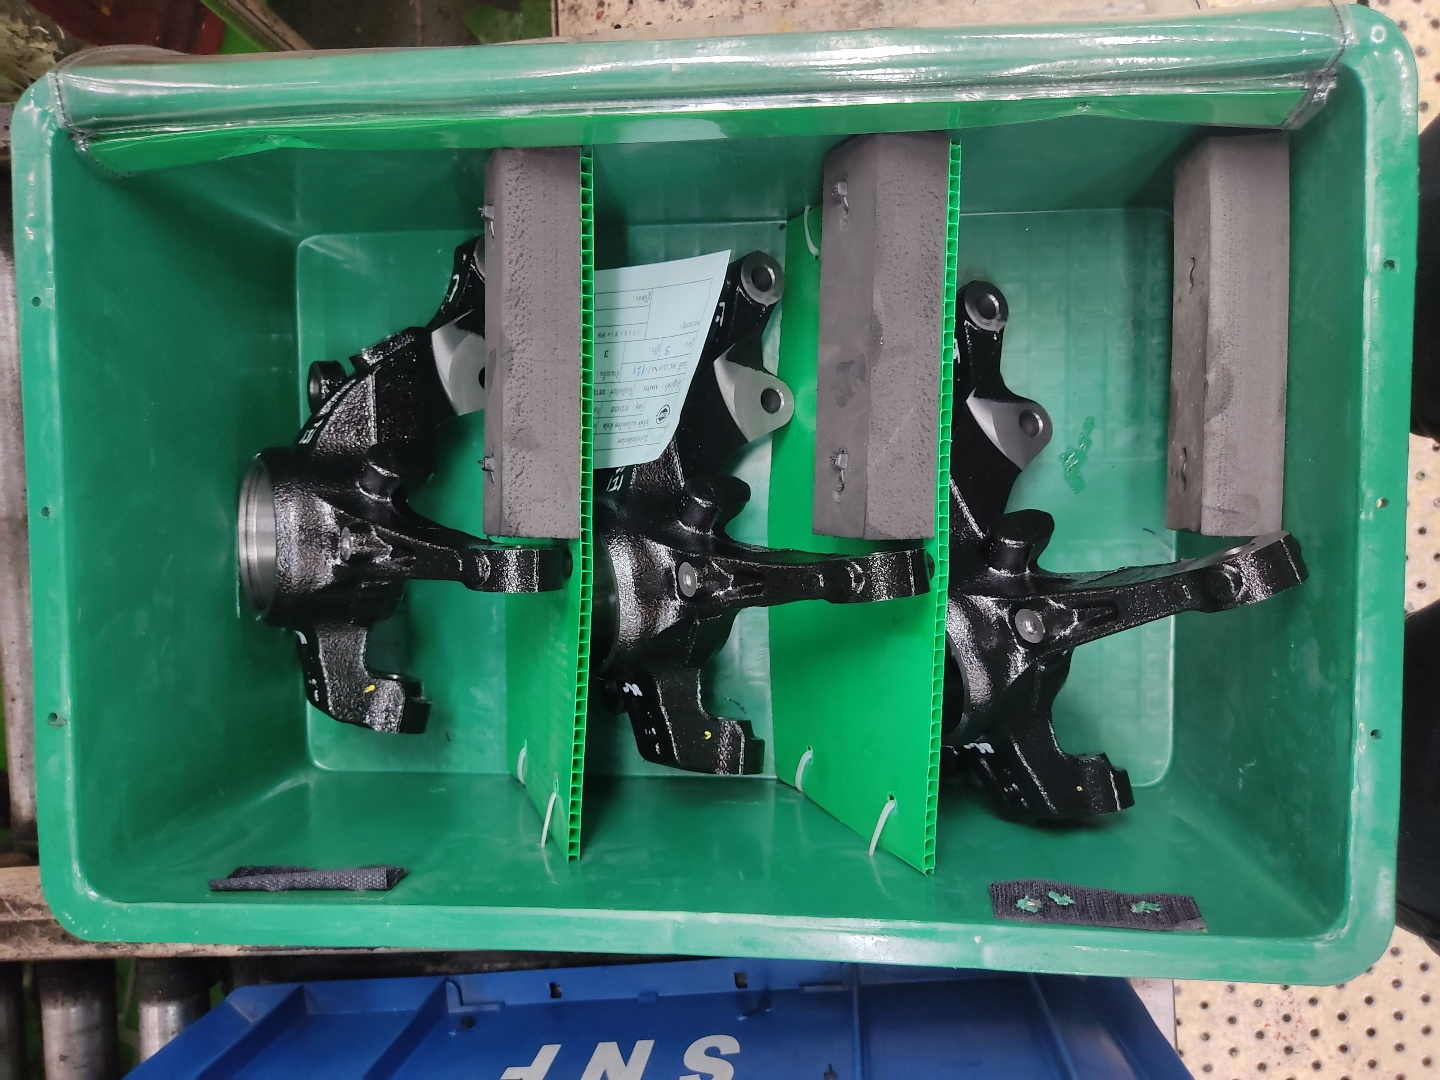non-lh: (946, 270, 1318, 838), (219, 216, 578, 752), (588, 245, 933, 785)
